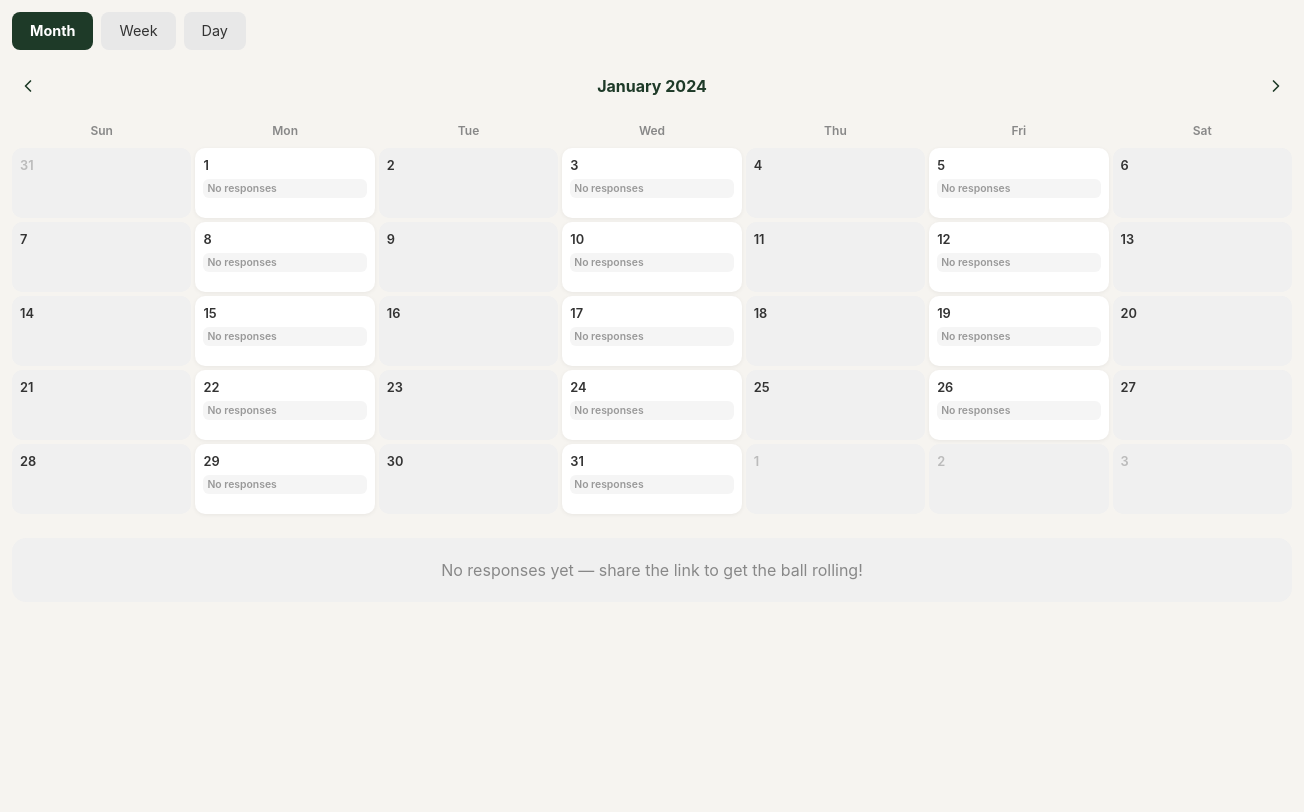
Scenario: CalendarView › shows "No responses yet for this day." in day view on event day with no data
Click the button "Day".
click(215, 31)  # box [184,12,246,50]
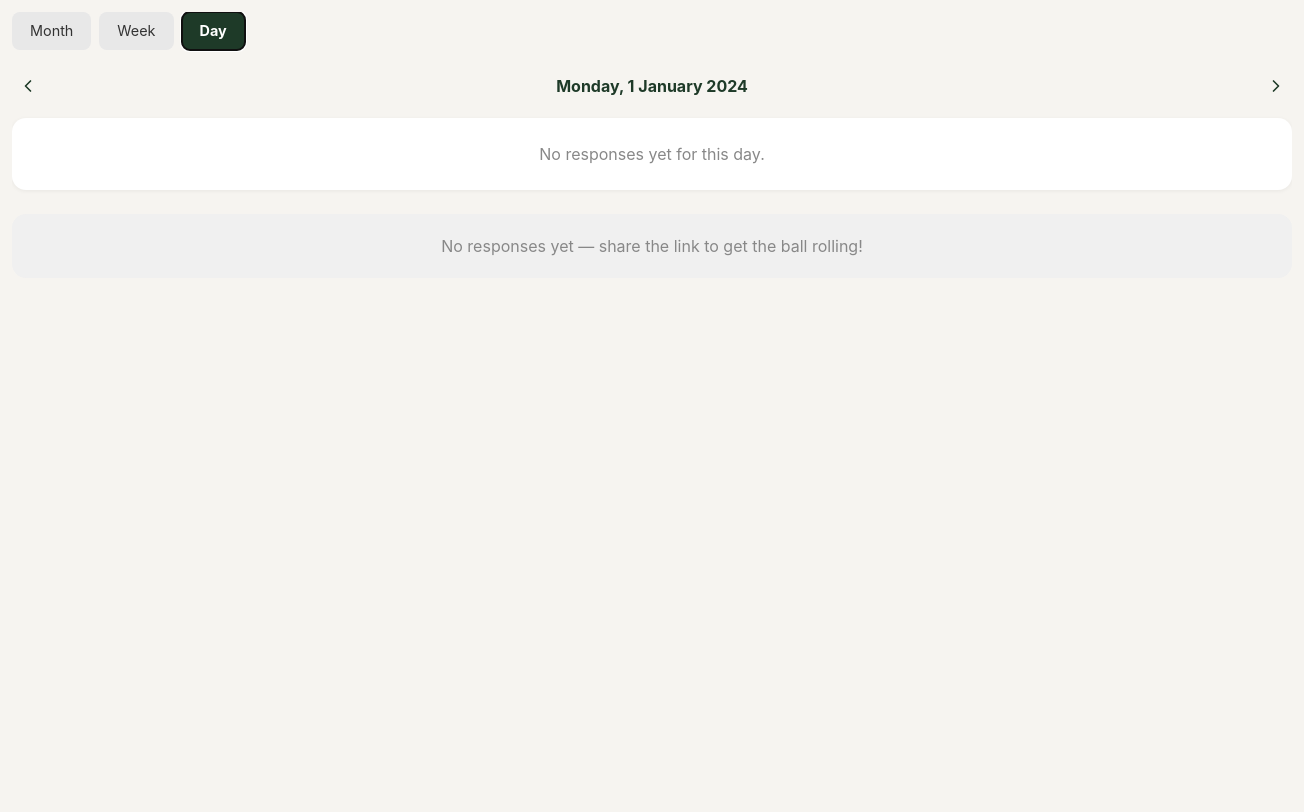
Expected: the text "No responses yet for this day." is shown, [12,118,1292,190]
